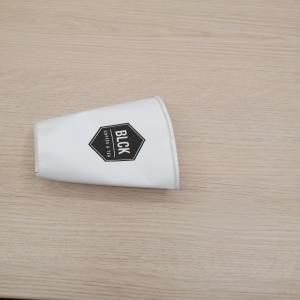Cup: (34, 97, 183, 192)
